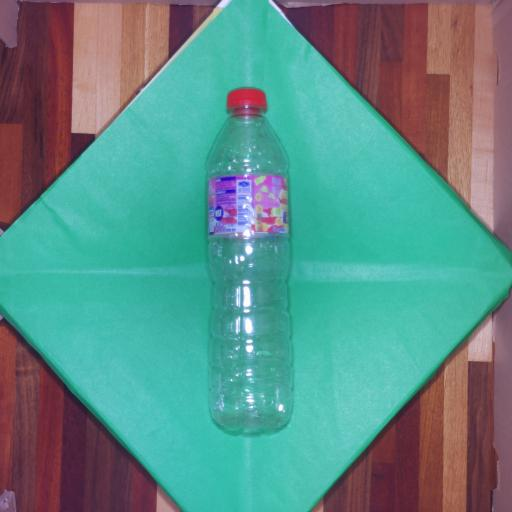bottle: (207, 89, 292, 431)
